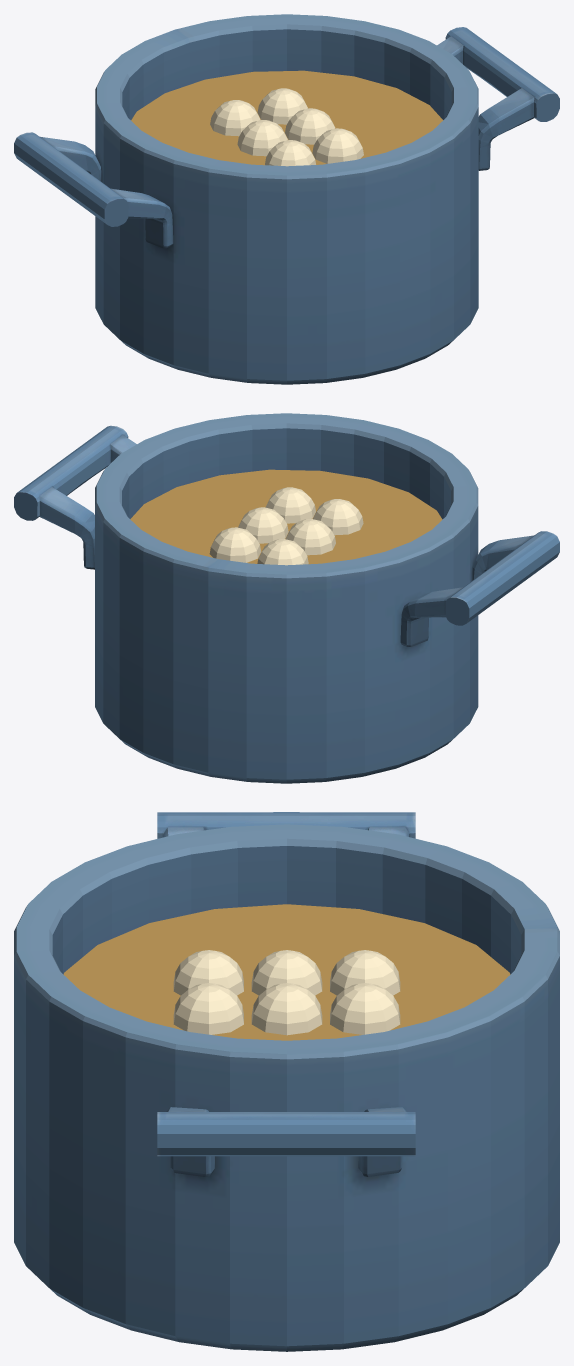
The model's file is Pot.obj.
3 views of the same model, one above another, from view 1: azimuth 30°, elevation 25°; view 2: azimuth 150°, elevation 25°; view 3: azimuth 270°, elevation 25° (orthographic). The views are drawn at different scales.
Visible parts, largest first — view 1: Pot_ncl2__ncl1_1, m_Surface, m_Bubble6, m_Bubble2, m_Bubble1, m_Bubble5, m_Bubble4, m_Bubble3; view 2: Pot_ncl2__ncl1_1, m_Surface, m_Bubble4, m_Bubble3, m_Bubble2, m_Bubble5, m_Bubble6, m_Bubble1; view 3: Pot_ncl2__ncl1_1, m_Surface, m_Bubble5, m_Bubble4, m_Bubble6, m_Bubble2, m_Bubble3, m_Bubble1.
Boxes of the visible parts, x1=… form: Pot_ncl2__ncl1_1: x1=14, y1=14, x2=559, y2=384; m_Surface: x1=131, y1=70, x2=443, y2=165; m_Bubble6: x1=312, y1=128, x2=363, y2=163; m_Bubble2: x1=237, y1=120, x2=287, y2=156; m_Bubble1: x1=210, y1=100, x2=260, y2=136; m_Bubble5: x1=285, y1=108, x2=335, y2=144; m_Bubble4: x1=257, y1=88, x2=307, y2=124; m_Bubble3: x1=265, y1=140, x2=315, y2=166; Pot_ncl2__ncl1_1: x1=14, y1=413, x2=559, y2=783; m_Surface: x1=130, y1=469, x2=442, y2=564; m_Bubble4: x1=209, y1=527, x2=261, y2=562; m_Bubble3: x1=313, y1=499, x2=363, y2=535; m_Bubble2: x1=285, y1=519, x2=335, y2=555; m_Bubble5: x1=238, y1=507, x2=288, y2=543; m_Bubble6: x1=265, y1=487, x2=315, y2=523; m_Bubble1: x1=257, y1=539, x2=308, y2=565; Pot_ncl2__ncl1_1: x1=14, y1=812, x2=559, y2=1351; m_Surface: x1=63, y1=904, x2=510, y2=1040; m_Bubble5: x1=251, y1=983, x2=322, y2=1035; m_Bubble4: x1=330, y1=983, x2=400, y2=1034; m_Bubble6: x1=173, y1=983, x2=243, y2=1034; m_Bubble2: x1=251, y1=950, x2=322, y2=995; m_Bubble3: x1=173, y1=950, x2=243, y2=995; m_Bubble1: x1=330, y1=950, x2=400, y2=995.
Bounding box in the file's own units: 1.15 × 0.5102 × 0.8393.
3 materials, 3 textured.
